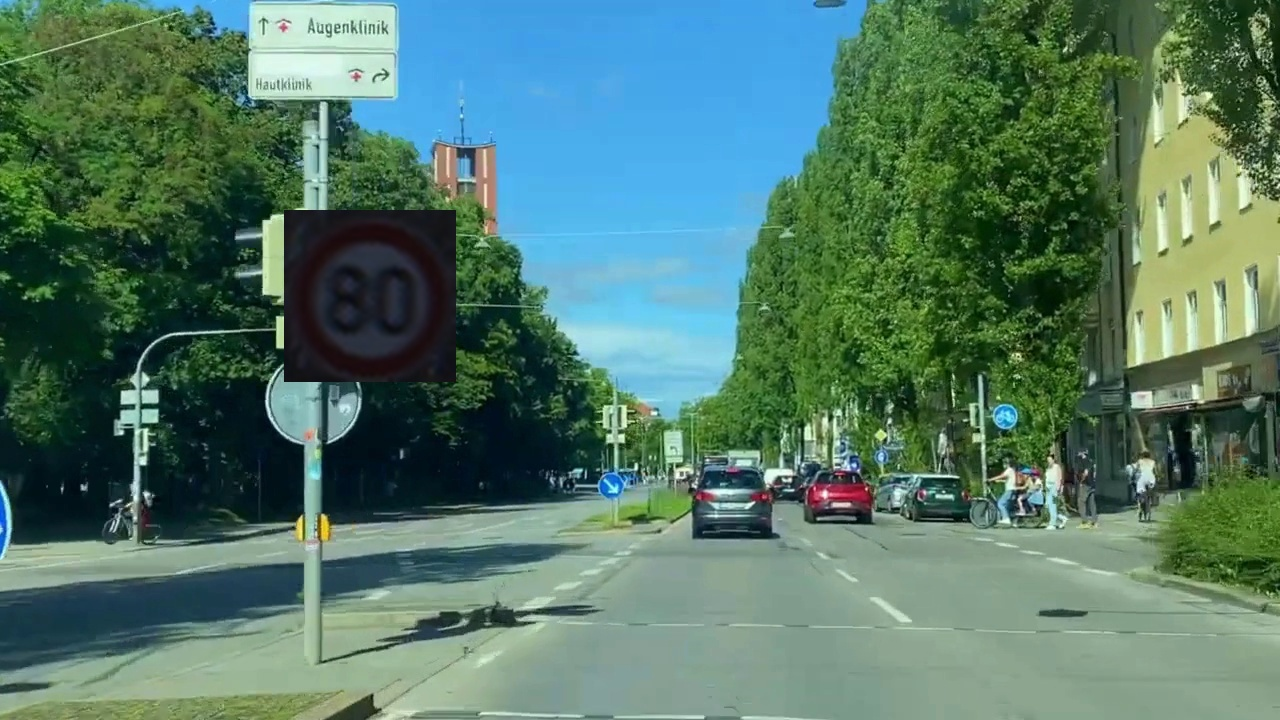Speed 80: (284, 210, 456, 382)
